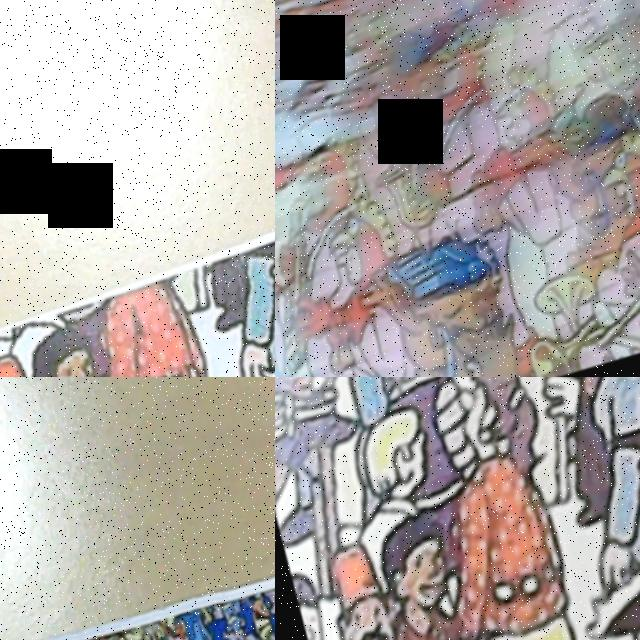waldo: (621, 85, 640, 183)
